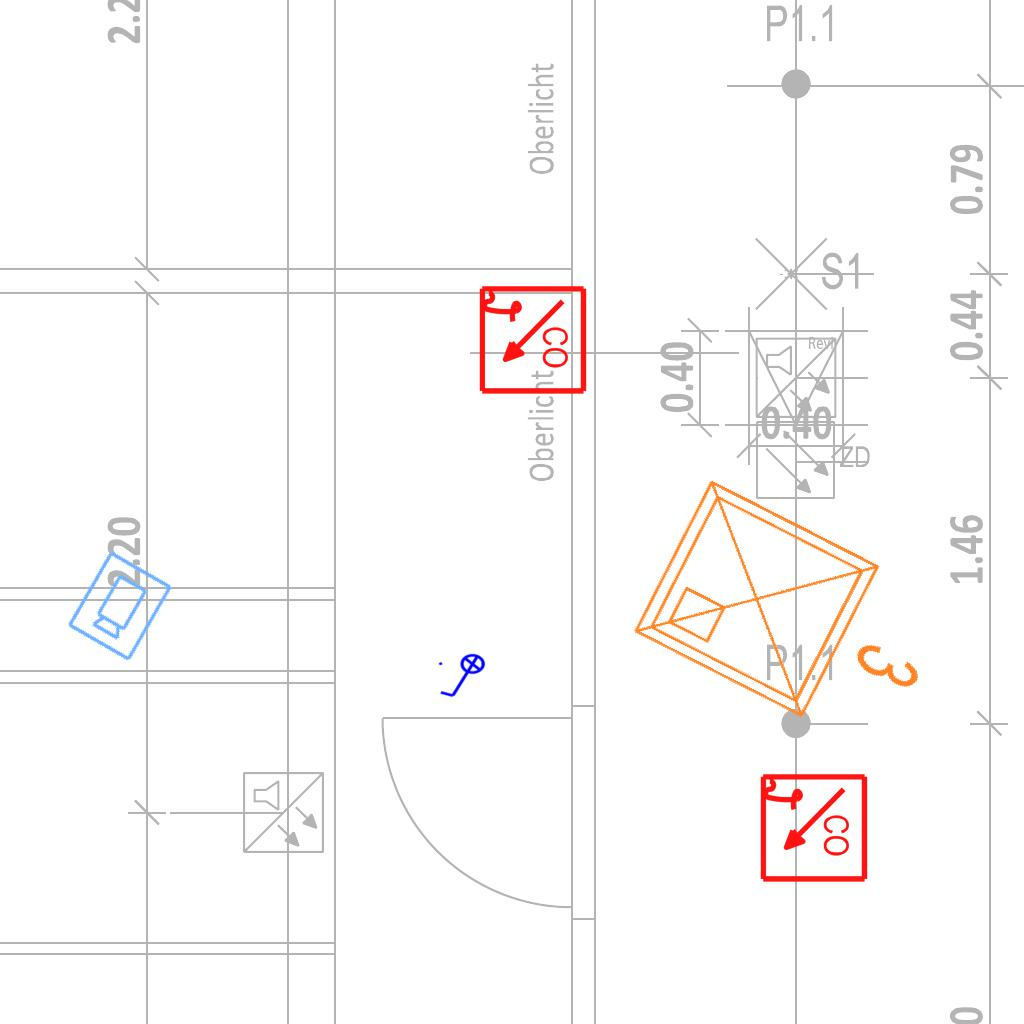Ausschalter_beleuchtet: (436, 653, 492, 701)
Einbaudownlights_LED_Konferenzraeume: (614, 453, 976, 775)
KFO_Kamera_mit_Festobjektiv: (63, 546, 176, 665)
ROA_Rauchmelder_optisch_mit_Signalgeber_(Sockelsirene): (756, 772, 869, 885), (475, 284, 588, 397)
